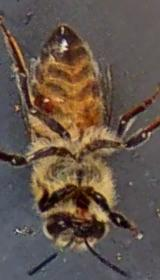varroa_mite: (28, 85, 60, 117)
